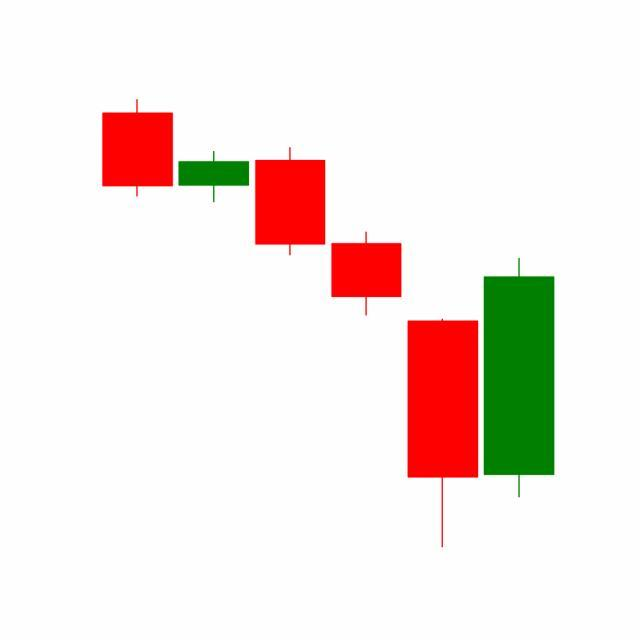Upside-Downside Gap Three Methods: (326, 228, 555, 548)
